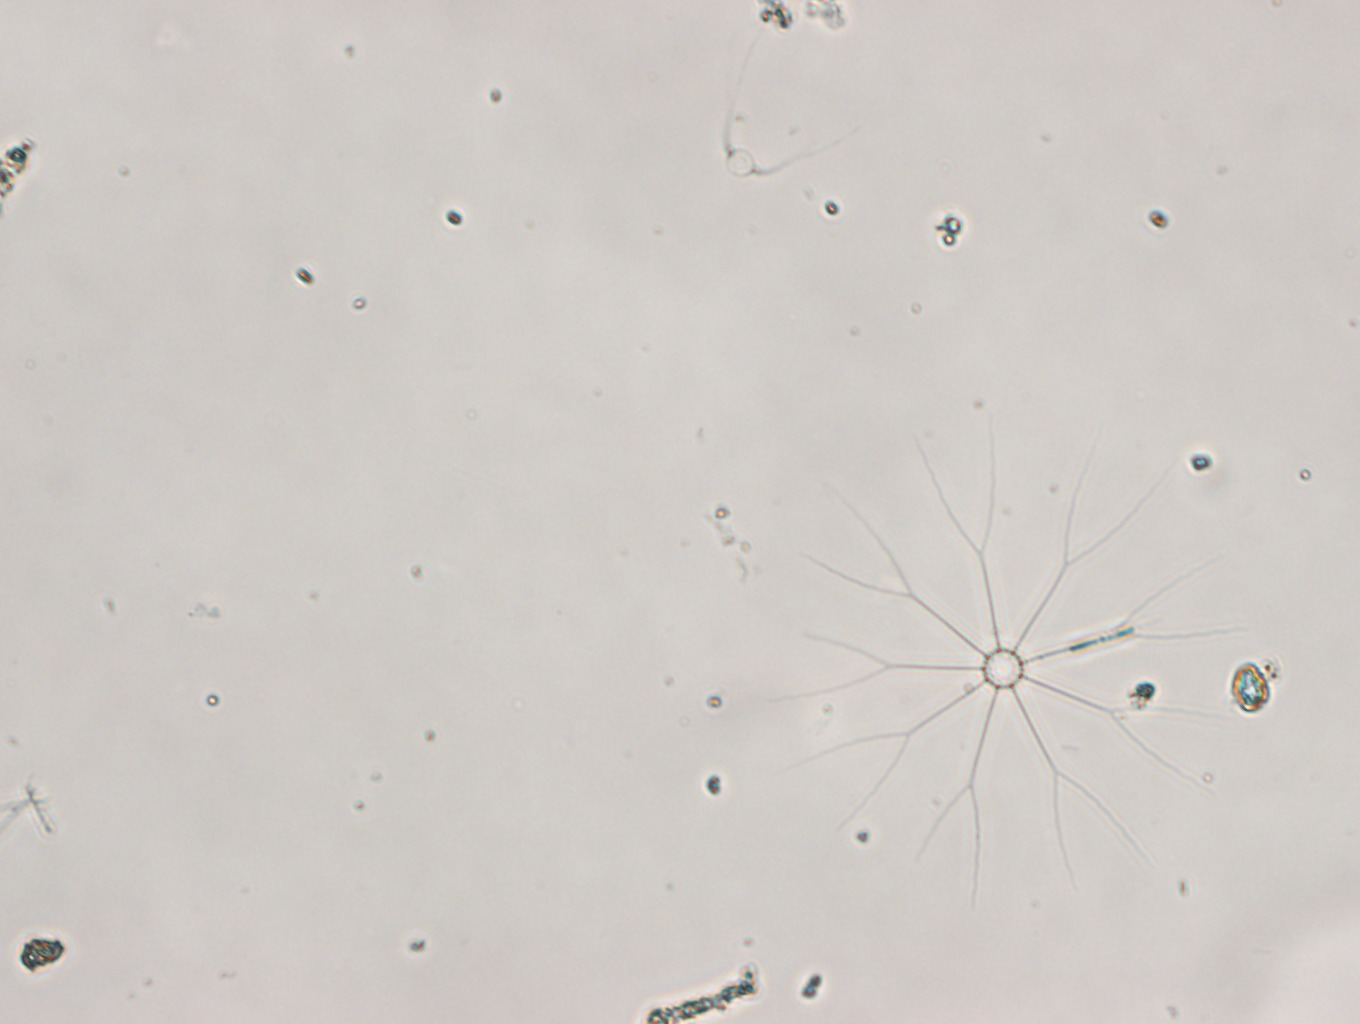bacteriastrum: (773, 416, 1258, 904)
